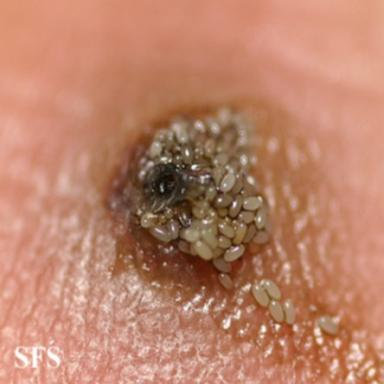Tungiasis: (124, 109, 273, 290), (252, 279, 295, 324), (318, 318, 338, 334)
